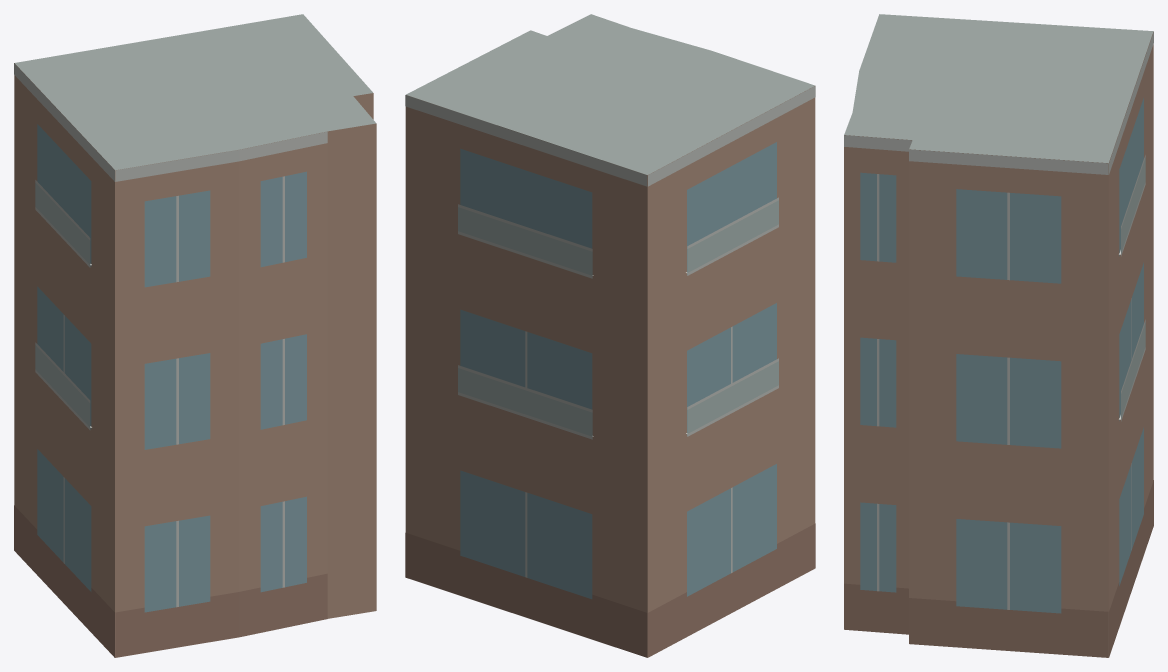
File: survey-upis-32487325.glb
3 views of the same model, side by side, from view 1: azimuth 30°, elevation 25°; view 2: azimuth 150°, elevation 25°; view 3: azimuth 270°, elevation 25° (orthographic). The views are drawn at different scales.
Visible parts, largest first — view 1: survey-upis-32487325.tmp; view 2: survey-upis-32487325.tmp; view 3: survey-upis-32487325.tmp.
Part boxes in pixels (left/top/right/bottom): survey-upis-32487325.tmp: left=14, top=14, right=376, bottom=657; survey-upis-32487325.tmp: left=405, top=14, right=815, bottom=657; survey-upis-32487325.tmp: left=844, top=14, right=1153, bottom=657.
Bounding box in the file's own units: 6.57 × 10.15 × 5.76.
